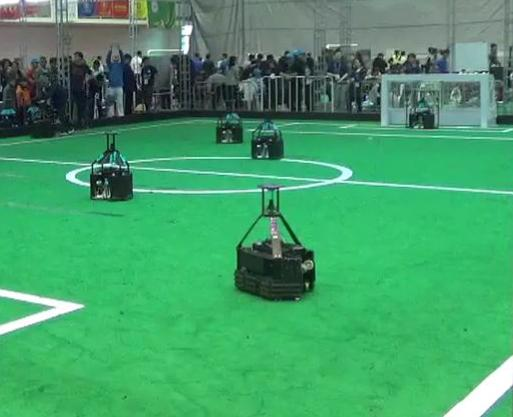robot: (225, 172, 333, 309), (82, 129, 139, 205), (202, 94, 249, 150), (248, 104, 289, 164)
